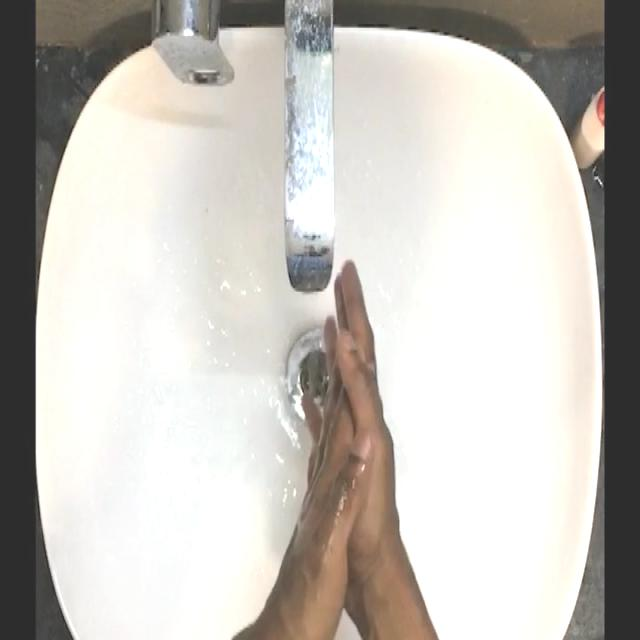step_1: (282, 253, 417, 615)
